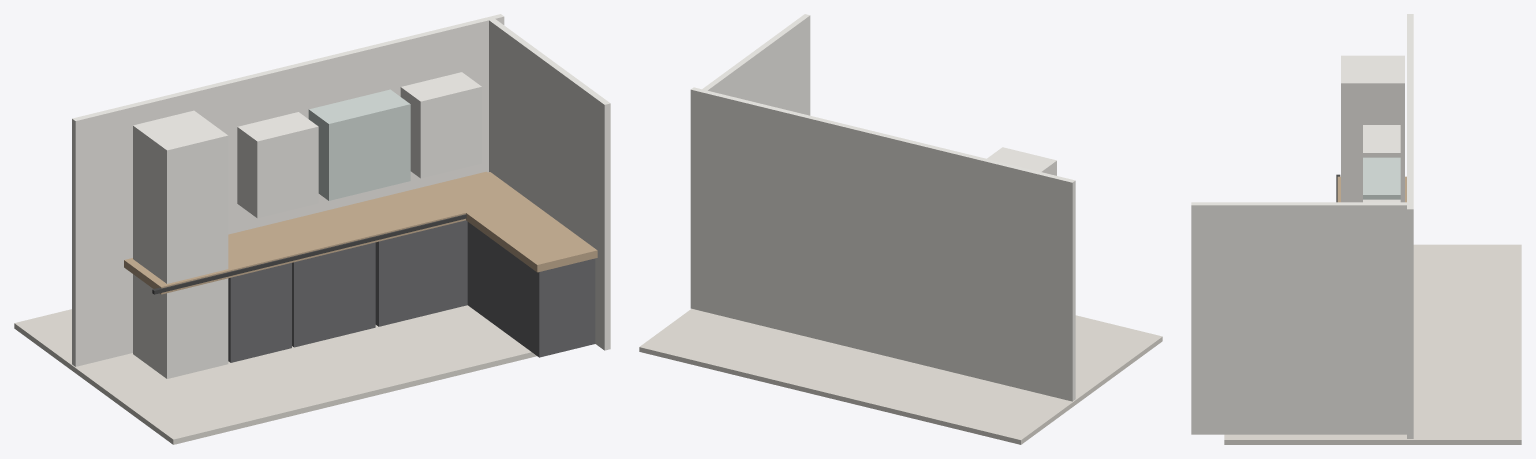
The model's file is kitchen-rm-demo.glb.
The picture shows the model from 3 angles, left to right: view 1: azimuth 30°, elevation 25°; view 2: azimuth 150°, elevation 25°; view 3: azimuth 270°, elevation 25°; orthographic projection. The views are drawn at different scales.
Parts seen in each view (by area): view 1: back wall, floor, tall 600, side wall, counter, side base, glass 800, wall 600, drawers 800, sink 800, wall 600 2, side counter (+3 smaller); view 2: back wall, floor, side wall, tall 600; view 3: side wall, floor, tall 600, back wall, glass 800, wall 600.
Part boxes in pixels (x1,y1,x2,y2): back wall: [72, 14, 504, 366]; floor: [14, 305, 536, 444]; tall 600: [133, 110, 228, 378]; side wall: [488, 17, 610, 350]; counter: [124, 171, 522, 294]; side base: [467, 222, 595, 357]; glass 800: [308, 89, 410, 200]; wall 600: [237, 112, 318, 218]; drawers 800: [375, 221, 460, 326]; sink 800: [292, 242, 375, 347]; wall 600 2: [400, 72, 481, 178]; side counter: [430, 172, 597, 272]; back wall: [690, 87, 1075, 401]; floor: [639, 308, 1162, 444]; side wall: [700, 14, 810, 115]; tall 600: [987, 147, 1056, 175]; side wall: [1191, 202, 1406, 434]; floor: [1224, 244, 1521, 444]; tall 600: [1341, 55, 1404, 202]; back wall: [1407, 14, 1413, 438]; glass 800: [1363, 157, 1400, 199]; wall 600: [1363, 125, 1400, 157].
Bounding box in the file's own units: 4.2 × 2.36 × 3.
